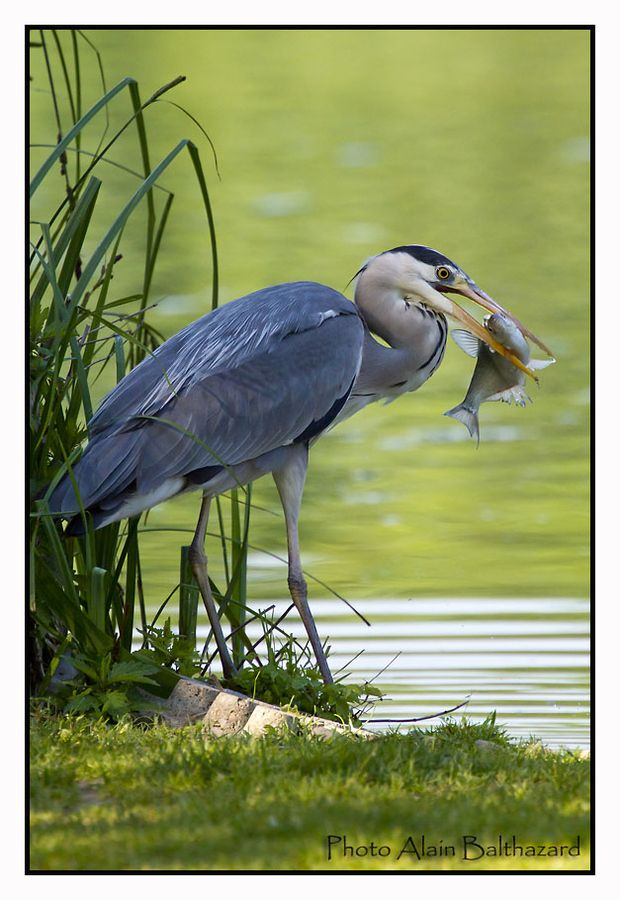heron: (47, 238, 567, 734)
